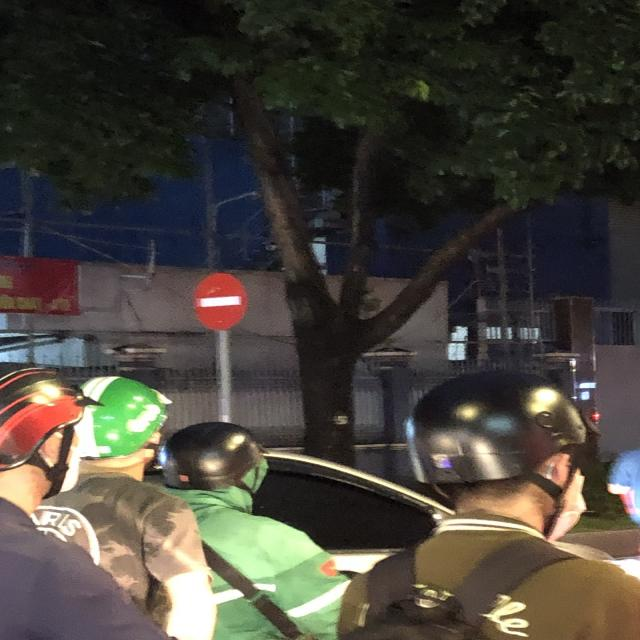Bien bao cam di nguoc chieu: (185, 268, 250, 331)
